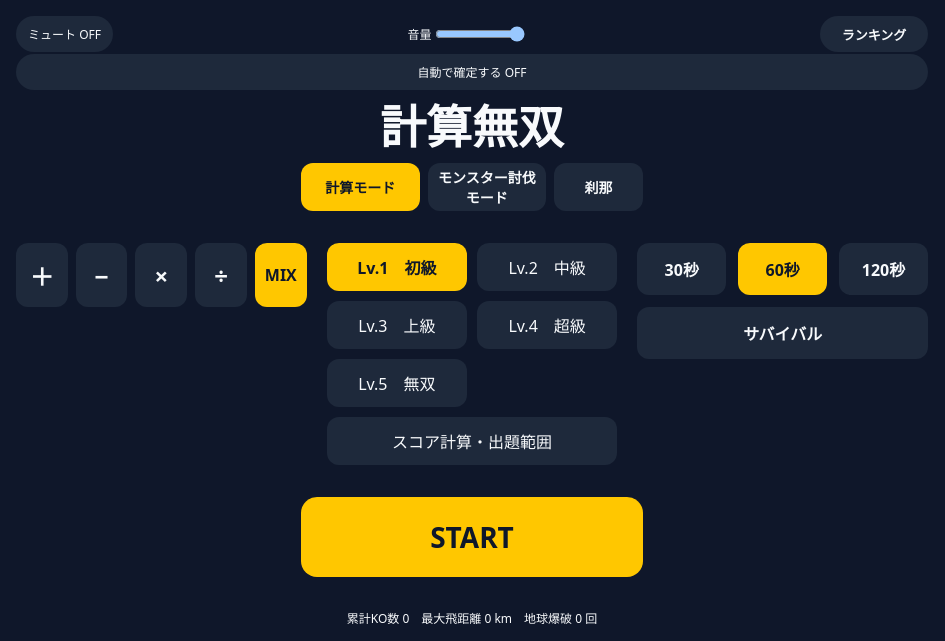
Test: トップから看板種目を表示し、ドロップダウンで条件を切り替えられる
The width and height of the screenshot is (945, 641).
Click the button named "掛け算".
click(161, 275)  # box [136,243,187,307]
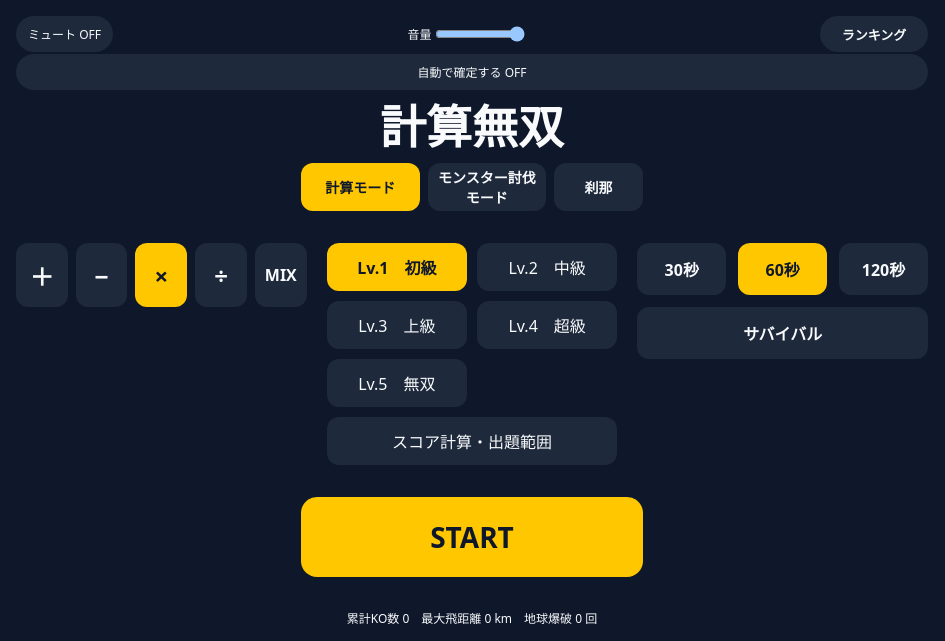
Click the button "30秒".
click(682, 269)  # box [637,243,726,295]
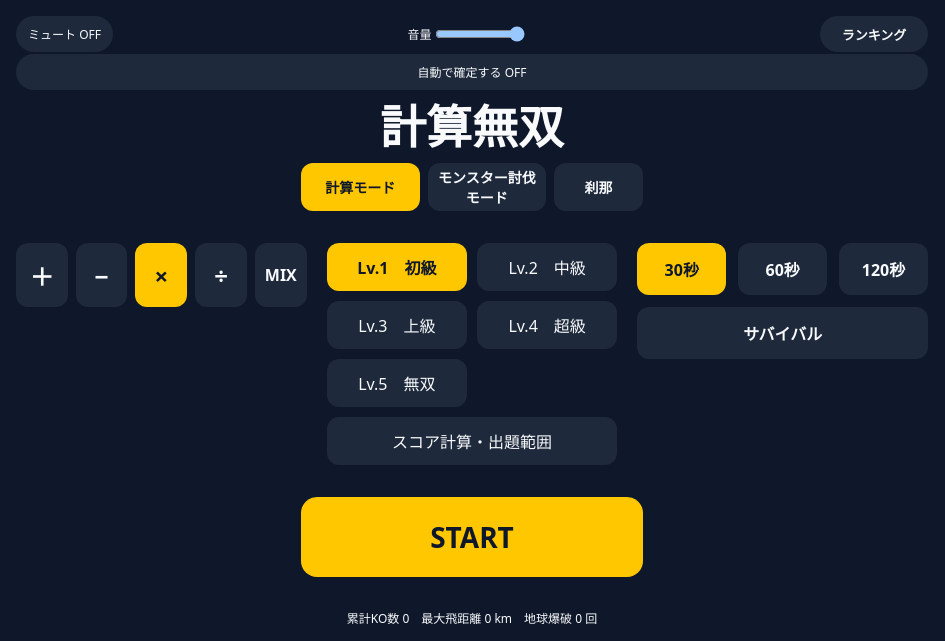
Click the button "ランキング".
click(874, 34)  # box [820,16,928,52]
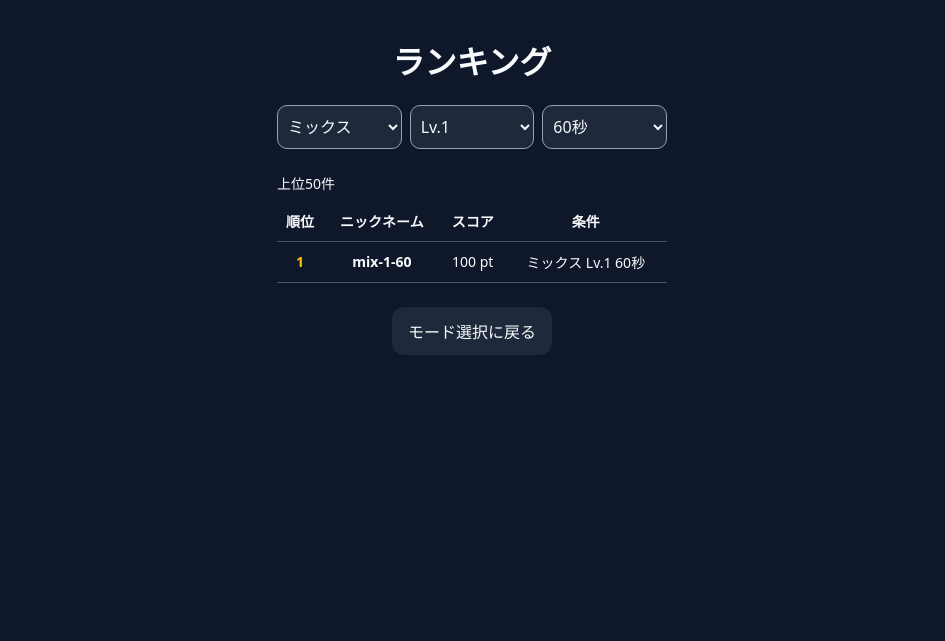
Check: the row "1 mix-1-60 100 pt ミックス Lv.1 60秒" is shown, box [277,241,667,282]
Select "Lv.2" in the dropdown named "レベル" at [472, 127], box [410,105,534,149]
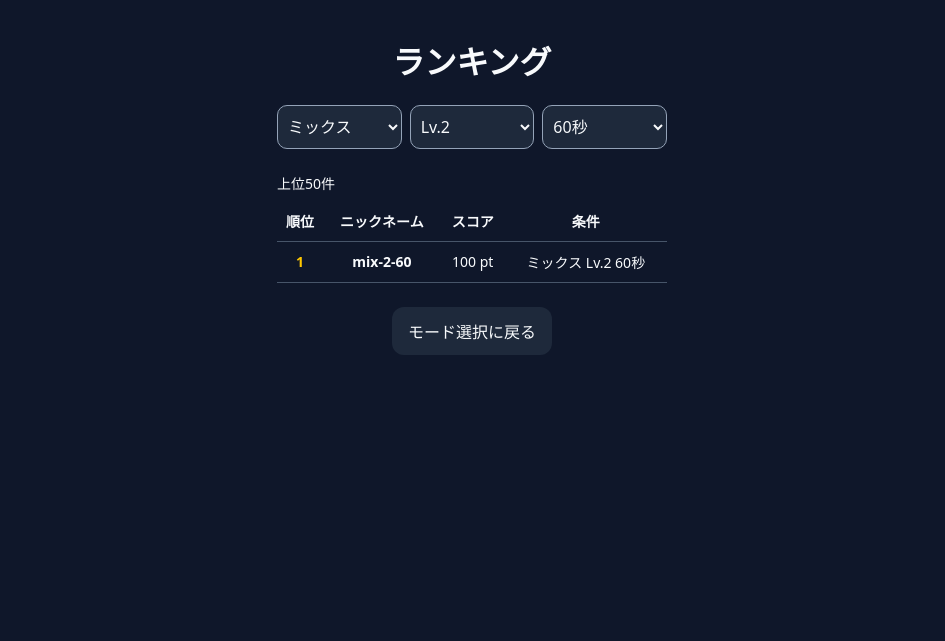
Check: the column heading "mix-2-60" is shown, box [323,241,441,282]
Select "引き算" in the dropdown named "演算" at [339, 127], box [277,105,402,149]
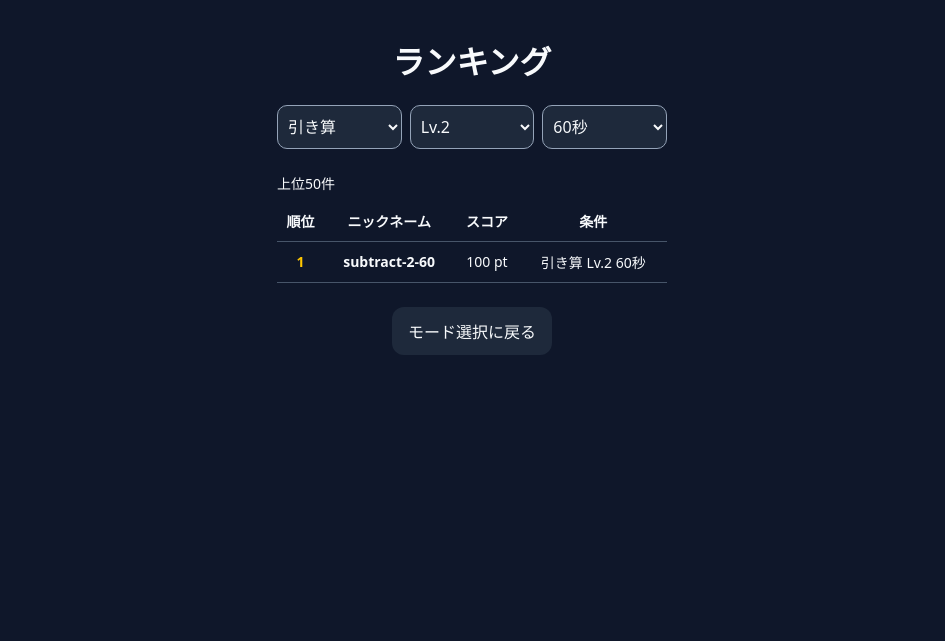
Check: the column heading "subtract-2-60" is shown, box [324,241,454,282]
Select "120秒" in the dropdown named "制限時間" at [605, 127], box [542,105,667,149]
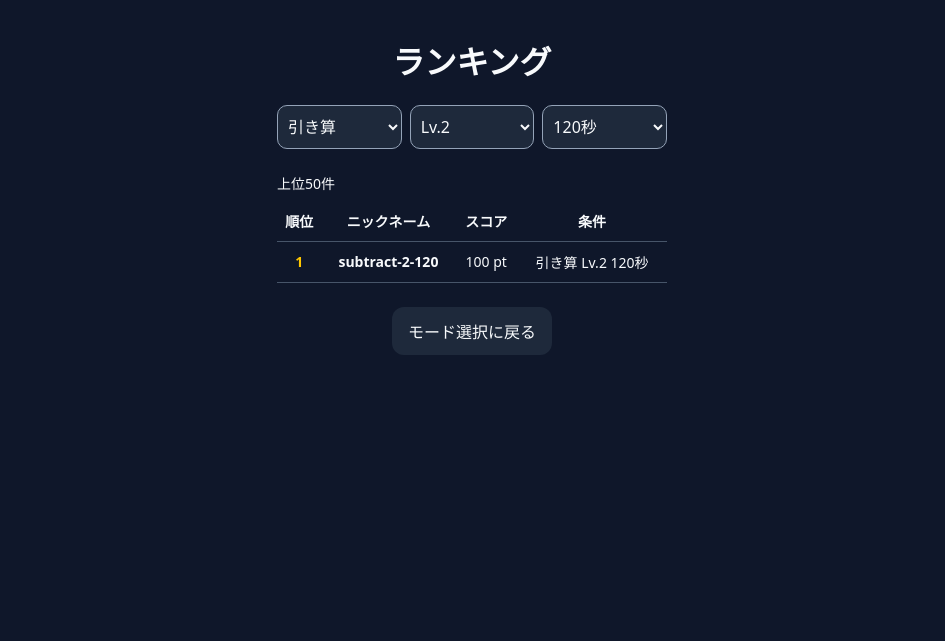
Check: the column heading "subtract-2-120" is shown, box [322,241,455,282]
